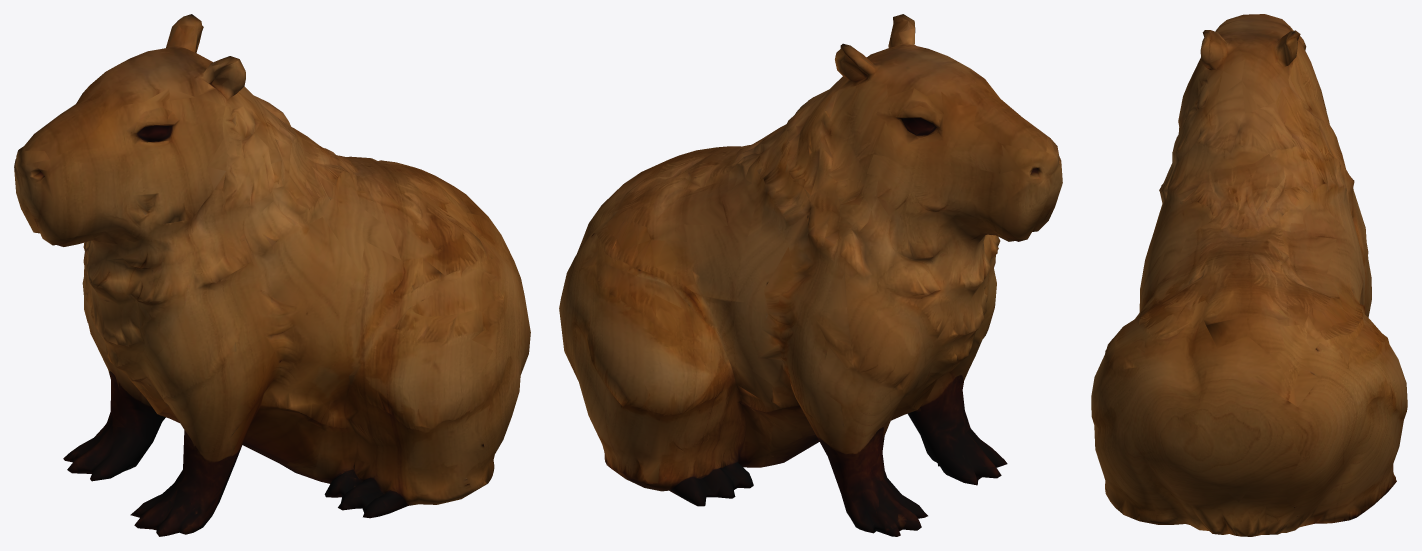
File: capybara.glb
3 renders of one model, left to right at view 1: azimuth 30°, elevation 25°; view 2: azimuth 150°, elevation 25°; view 3: azimuth 270°, elevation 25°, orthographic. The views are drawn at different scales.
Visible parts, largest first — view 1: INOMATA_Model2_LOD1; view 2: INOMATA_Model2_LOD1; view 3: INOMATA_Model2_LOD1.
Part boxes in pixels (x1=…): INOMATA_Model2_LOD1: x1=14, y1=14, x2=530, y2=536; INOMATA_Model2_LOD1: x1=559, y1=14, x2=1062, y2=536; INOMATA_Model2_LOD1: x1=1091, y1=14, x2=1407, y2=536.
Bounding box in the file's own units: 182 × 164 × 118.
1 material, 1 textured.
